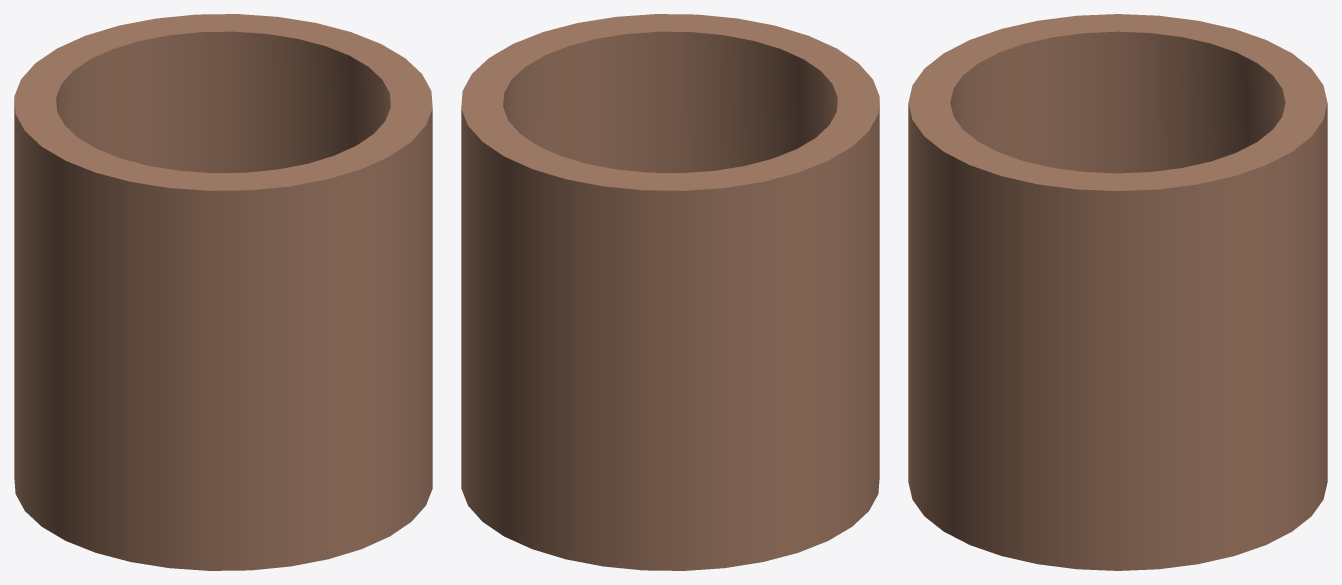
The model's file is cop.fbx.
The picture shows the model from 3 angles, left to right: view 1: azimuth 30°, elevation 25°; view 2: azimuth 150°, elevation 25°; view 3: azimuth 270°, elevation 25°; orthographic projection.
Visible parts, largest first — view 1: Cylinder; view 2: Cylinder; view 3: Cylinder.
Boxes of the visible parts, <box> form: Cylinder: <box>14,14,432,570</box>; Cylinder: <box>461,14,879,570</box>; Cylinder: <box>908,14,1327,570</box>.
Bounding box in the file's own units: 200 × 200 × 200.
